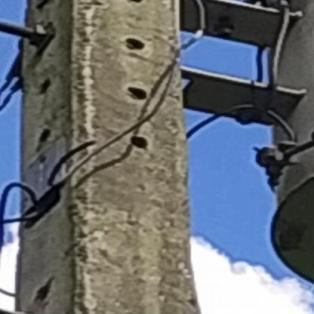Poste: (8, 0, 190, 314)
